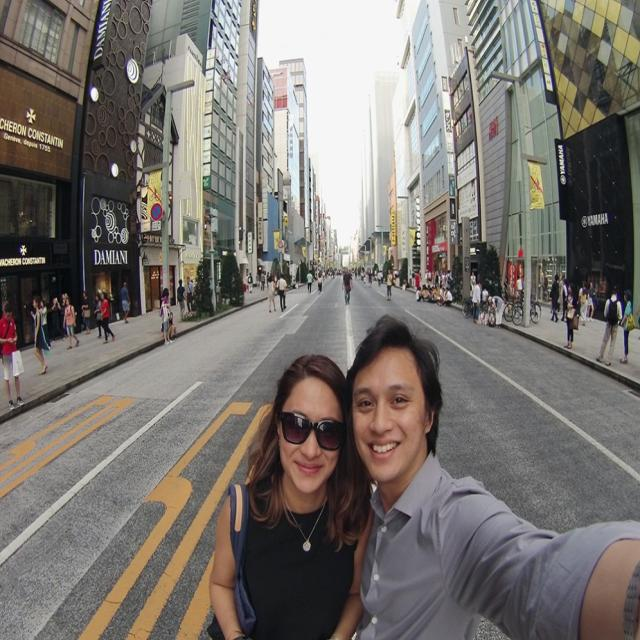body: (340, 309, 640, 639), (207, 350, 376, 640), (0, 300, 26, 410), (594, 286, 623, 368), (28, 295, 52, 377), (43, 291, 77, 335), (562, 281, 582, 350), (619, 289, 637, 365), (4, 212, 51, 239), (157, 286, 175, 347), (62, 296, 80, 350), (100, 292, 116, 344), (93, 292, 109, 339), (38, 298, 51, 352), (418, 268, 454, 286), (160, 310, 180, 341), (548, 272, 560, 323), (535, 265, 551, 302), (487, 295, 504, 329), (471, 278, 483, 324), (559, 272, 570, 322), (80, 290, 92, 335), (275, 272, 288, 313), (341, 266, 354, 307), (585, 279, 597, 323), (176, 278, 188, 320), (120, 280, 131, 324), (183, 275, 195, 315), (314, 266, 344, 281), (348, 267, 377, 282), (266, 273, 276, 314), (513, 272, 526, 302), (436, 286, 453, 308), (422, 286, 444, 302), (305, 269, 314, 296), (265, 270, 278, 287), (1, 297, 10, 320), (470, 271, 477, 300), (391, 267, 401, 287), (246, 271, 255, 293), (386, 268, 392, 301), (376, 266, 385, 288), (316, 272, 323, 294), (415, 286, 424, 302), (401, 277, 410, 292), (260, 271, 266, 292), (367, 269, 373, 289), (582, 280, 589, 296), (255, 272, 260, 290), (410, 266, 415, 283), (362, 274, 368, 286), (360, 266, 363, 280), (354, 266, 357, 278), (322, 271, 325, 282), (190, 278, 194, 284)
